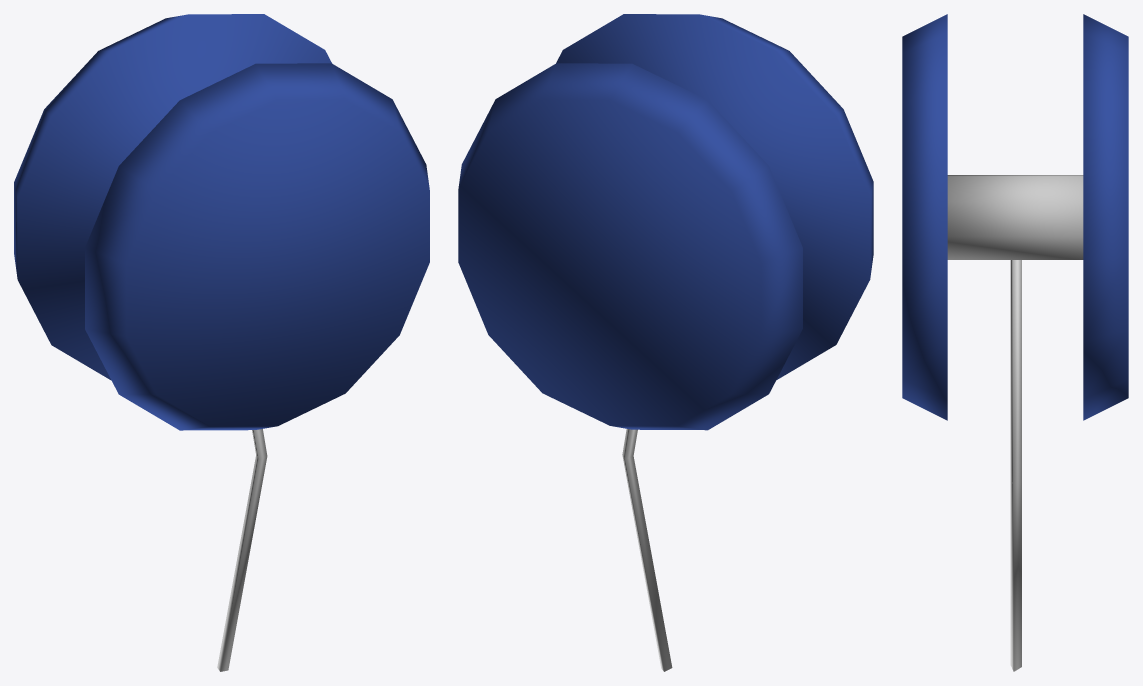
Rendered from valor.glb.
3 renders of one model, left to right at view 1: azimuth 30°, elevation 25°; view 2: azimuth 150°, elevation 25°; view 3: azimuth 270°, elevation 25°, orthographic.
Visible parts, largest first — view 1: valor_v0; view 2: valor_v0; view 3: valor_v0.
Part boxes in pixels (left/top/right/bottom): valor_v0: left=14, top=14, right=429, bottom=671; valor_v0: left=458, top=14, right=873, bottom=671; valor_v0: left=902, top=14, right=1128, bottom=671.
Bounding box in the file's own units: 0.1755 × 0.3106 × 0.1.
